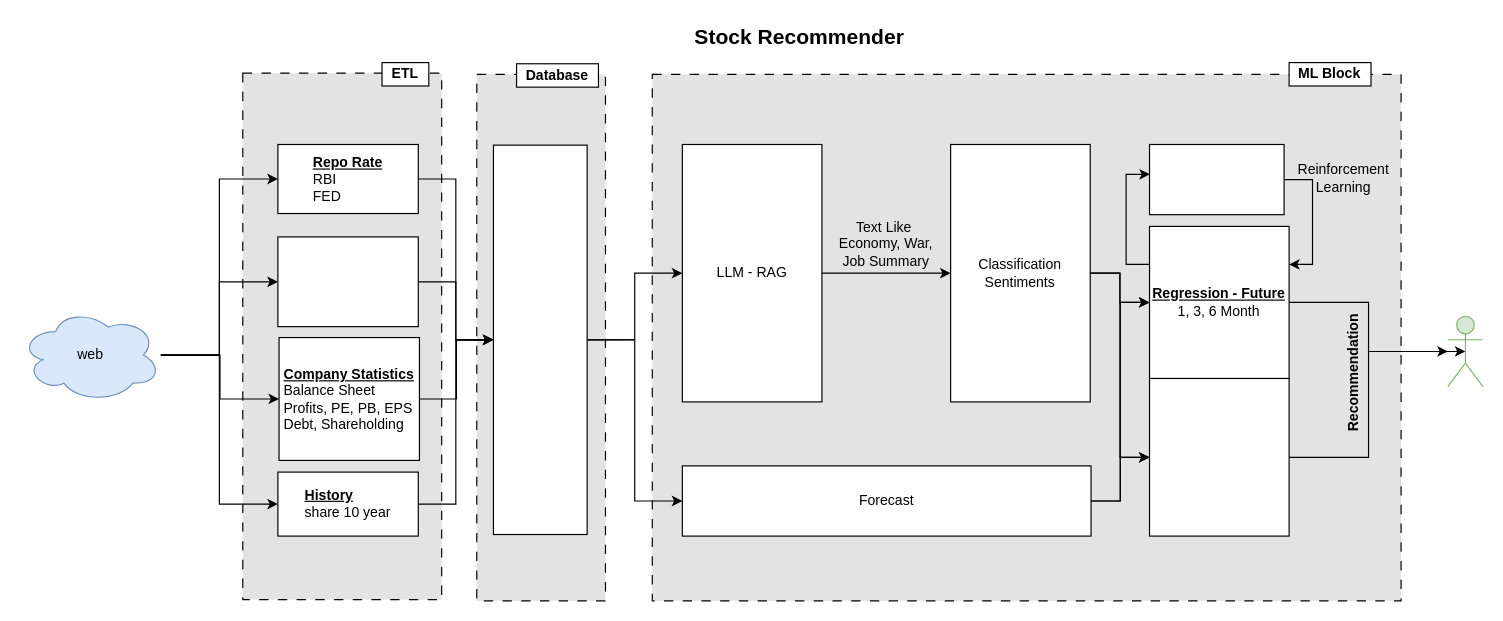
Image size: 1503x621. Some labels were removed from this diagram. Here are the shapes that lost their labels. From the top down, the box of each, then its label:
(1148, 143, 1284, 215): validate with actual data
(277, 236, 418, 327): News data Economy War Job company
(492, 144, 587, 534): vector Lake - timestamp
(1447, 315, 1483, 387): Actor
(1148, 377, 1289, 536): Classification Buy, Sell, Hold
